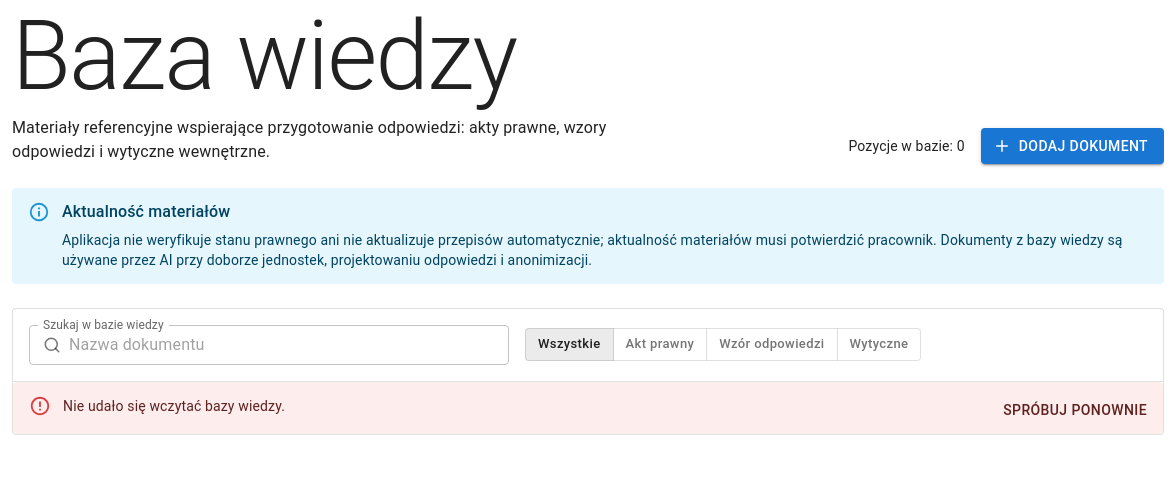
Test: KnowledgePage › shows the empty state and an error with a retry
The image size is (1176, 504).
Check: the text "Nie udało się wczytać bazy wiedzy." is shown, box top-left (63, 398), bottom-right (285, 414)
Click the button "Spróbuj ponownie".
click(1075, 410)  # box top-left (995, 392), bottom-right (1155, 428)
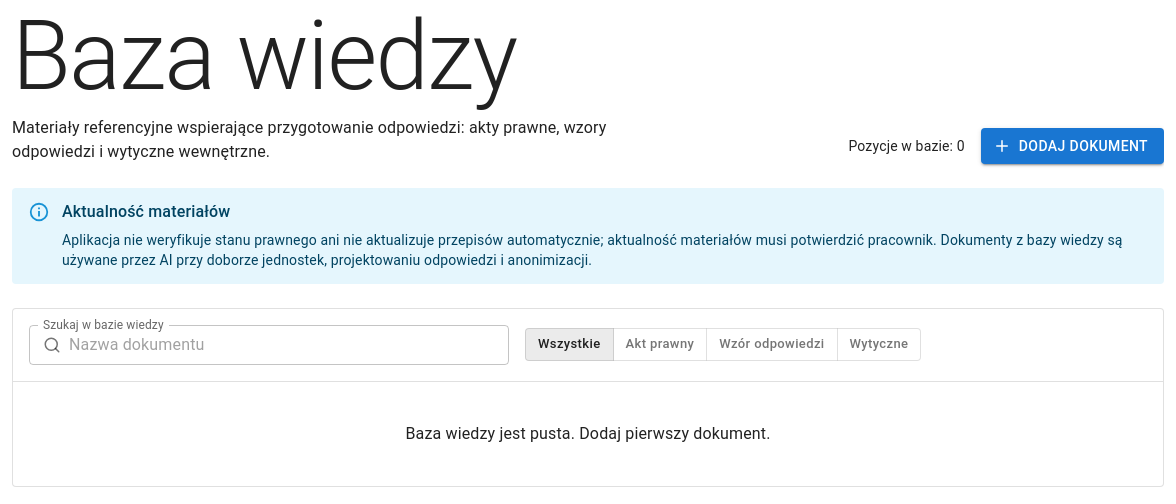
Check: the text "Baza wiedzy jest pusta. Dodaj pierwszy dokument." is shown, box top-left (406, 422), bottom-right (771, 446)
